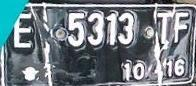clone-license-plate: (7, 0, 194, 85)
